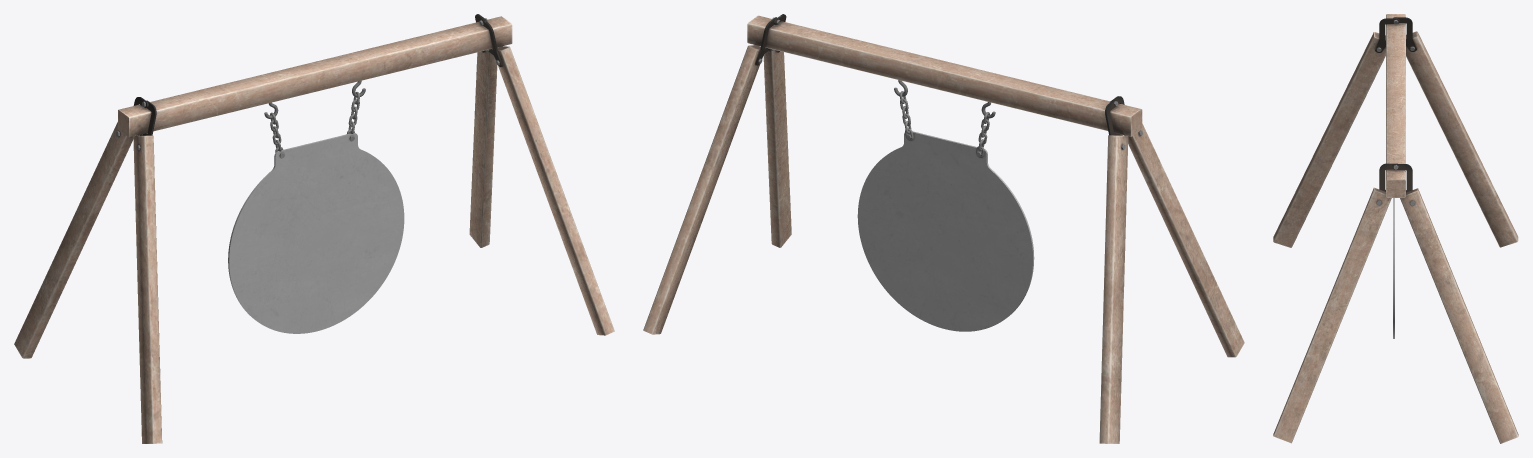
Rendered from gong.gltf.
3 views of the same model, side by side, from view 1: azimuth 30°, elevation 25°; view 2: azimuth 150°, elevation 25°; view 3: azimuth 270°, elevation 25° (orthographic). The views are drawn at different scales.
Parts seen in each view (by area): view 1: Stand, Plate; view 2: Stand, Plate; view 3: Stand, Plate.
Part boxes in pixels (x1,y1,x2,y2): Stand: [14, 14, 614, 443]; Plate: [228, 80, 404, 333]; Stand: [643, 14, 1244, 443]; Plate: [857, 80, 1034, 331]; Stand: [1273, 14, 1518, 443]; Plate: [1393, 198, 1394, 338].
Bounding box in the file's own units: 2.44 × 1.43 × 1.25.
1 material, 1 textured.
